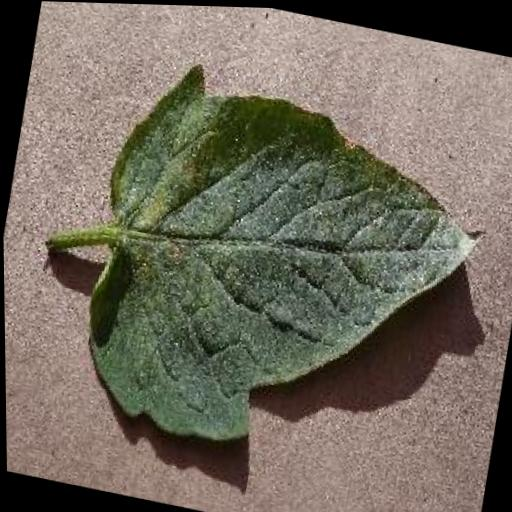Spider Mites: (63, 47, 505, 487)
